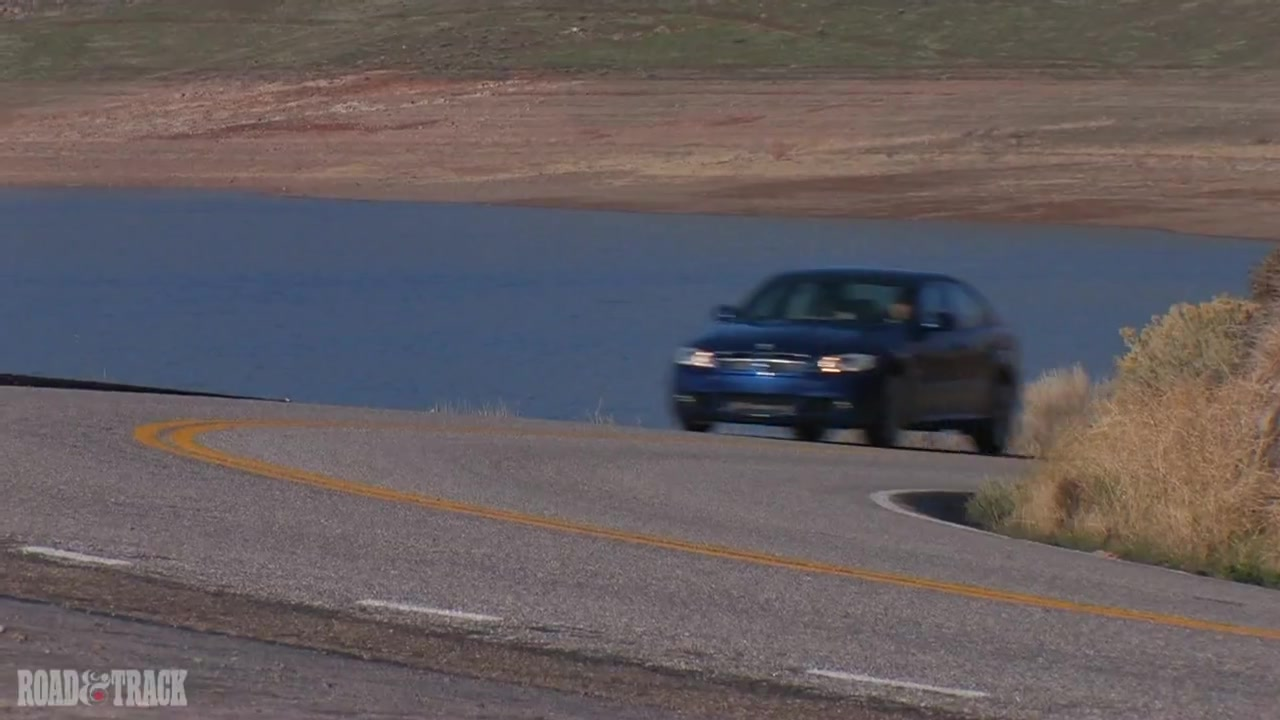car: (669, 266, 1023, 454)
